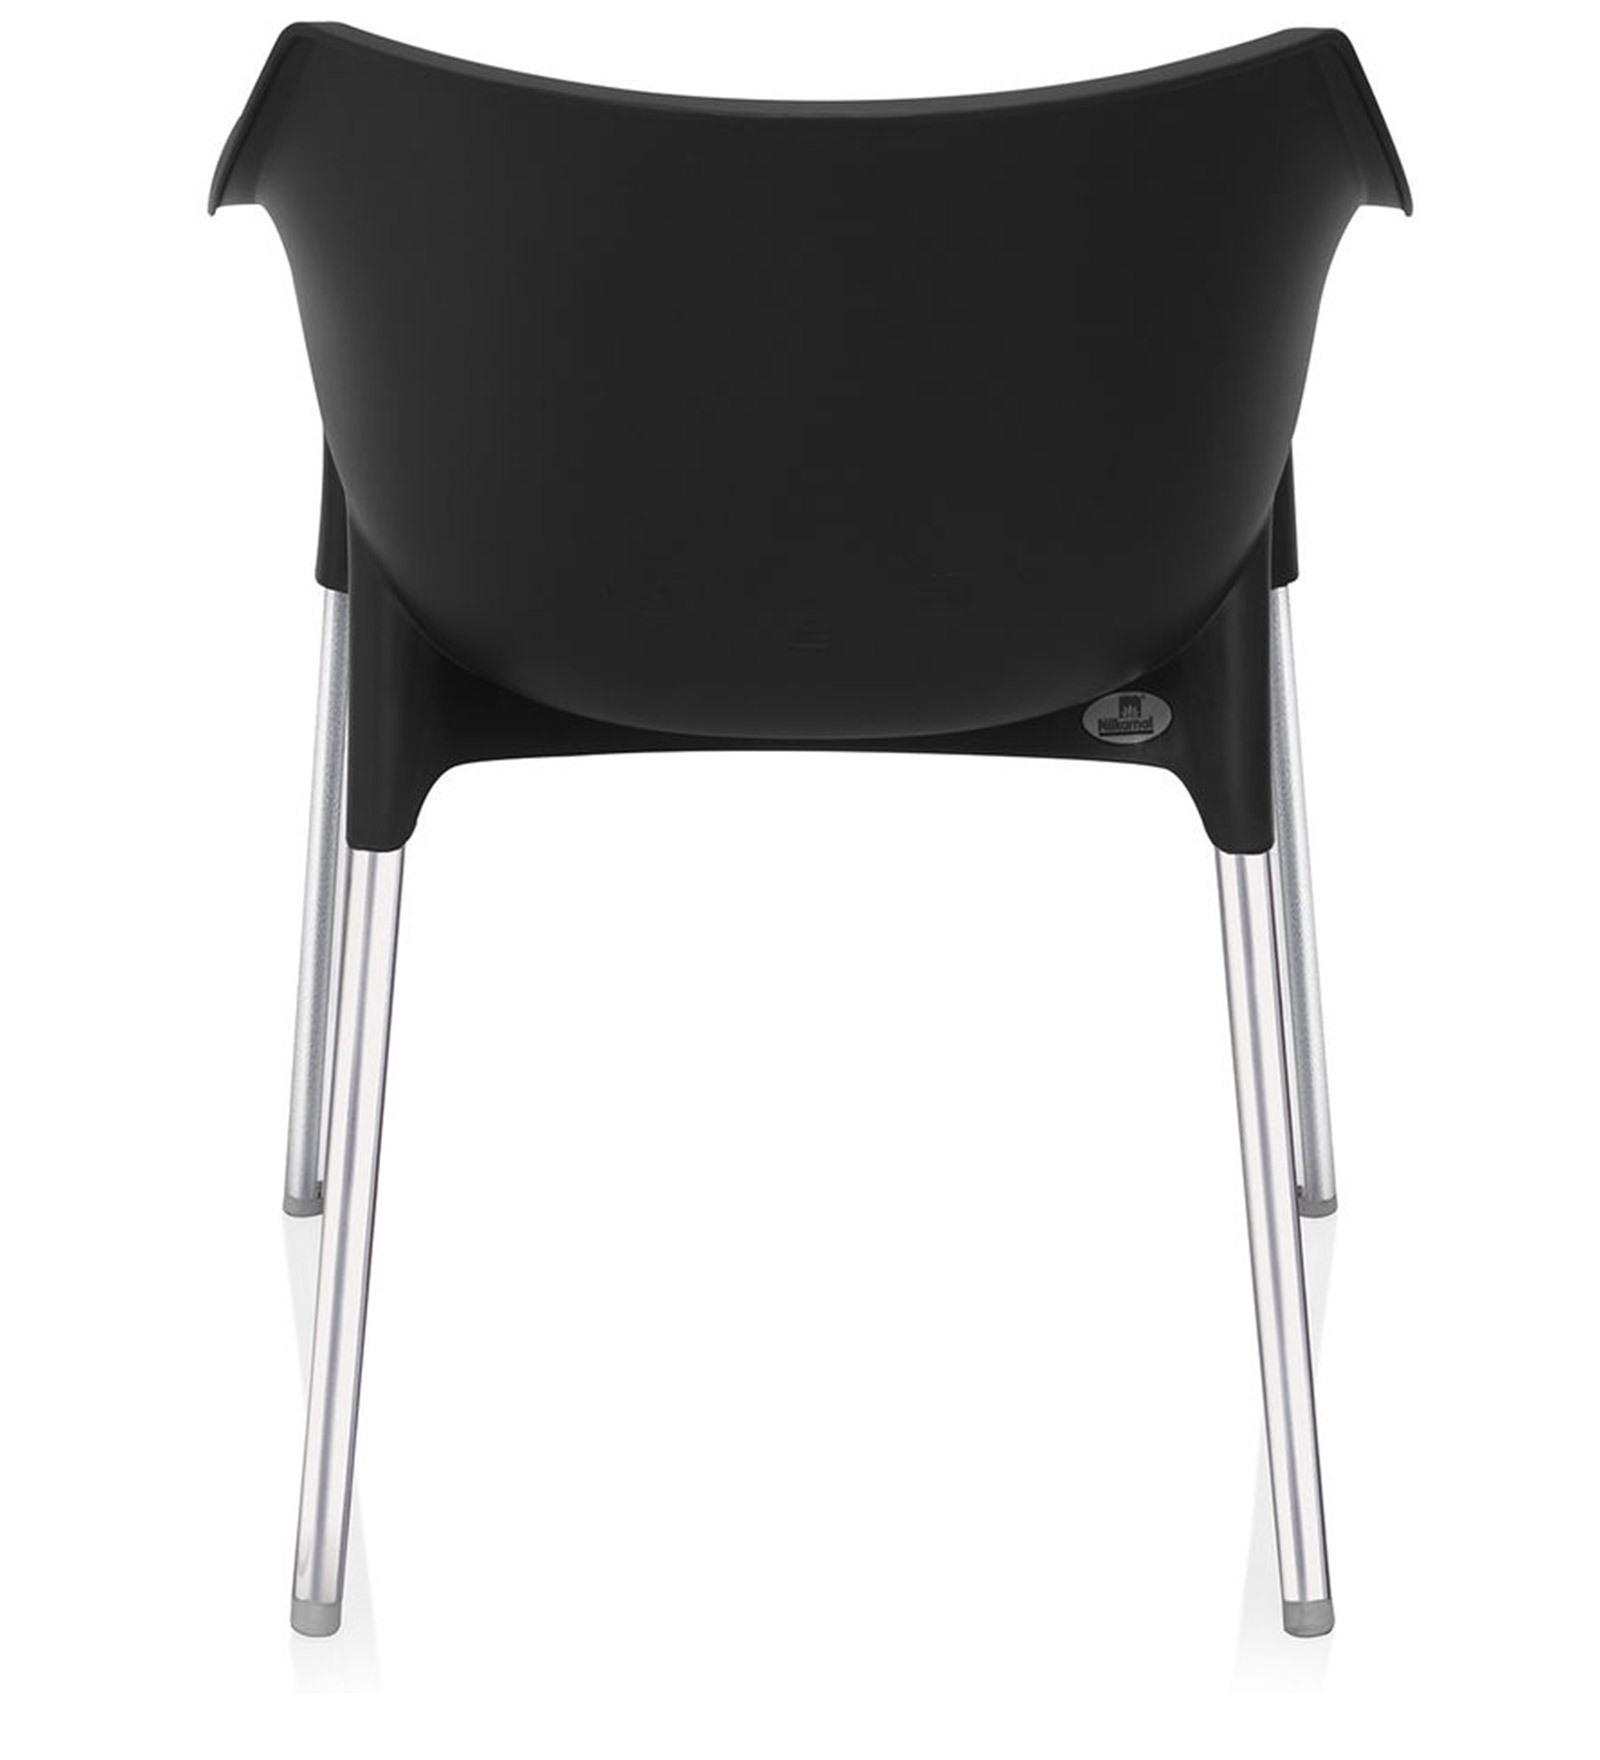Novella Series - 10 Set of 2 Chairs in Black Colour by Nilkamal: (198, 12, 1425, 1634)
